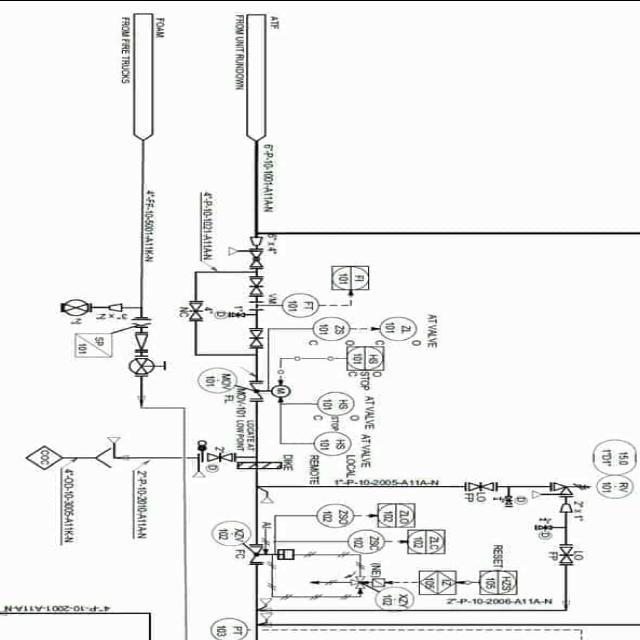3 Way Gate Valve: (345, 576, 365, 590)
Globe Valve: (250, 250, 264, 268)
Motor Operated Butterfly Valve: (249, 382, 291, 399)
Needle Valve: (185, 304, 206, 320), (558, 545, 576, 562), (247, 328, 264, 346), (249, 275, 265, 293), (207, 451, 233, 461), (468, 482, 496, 490)
PSV: (548, 472, 594, 494)
Rotary Piston-Pneumatic Butterfly Valve: (248, 545, 296, 562)
